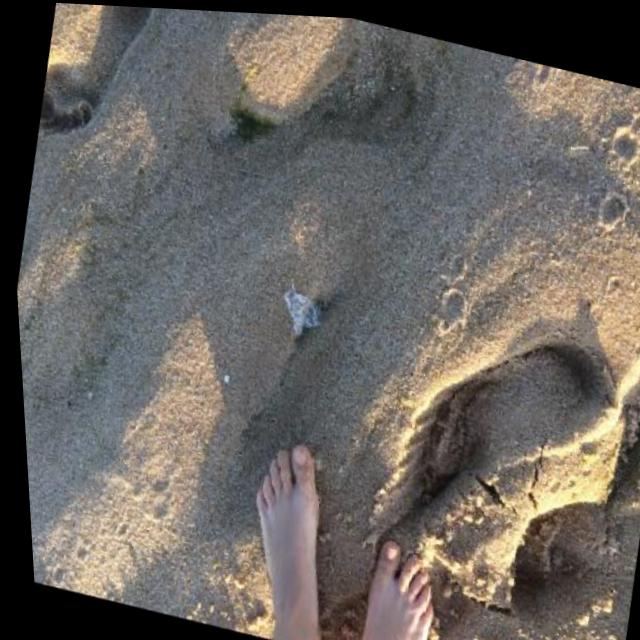plastic: (275, 288, 326, 341)
